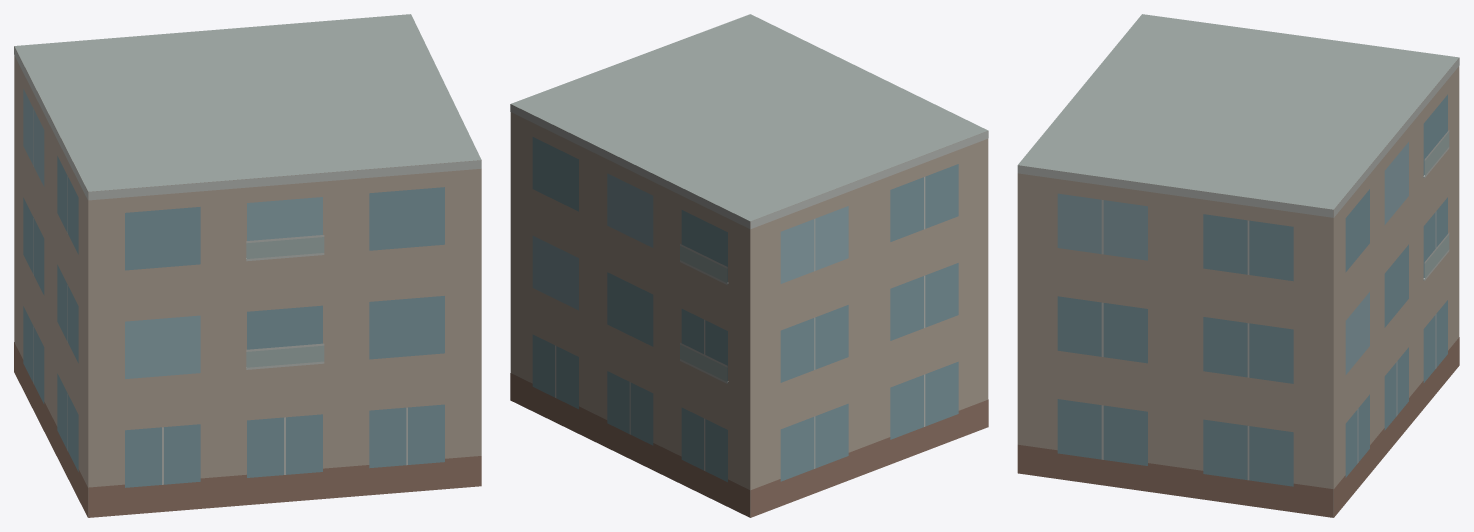
Rendered from survey-upis-33043038.glb.
3 renders of one model, left to right at view 1: azimuth 30°, elevation 25°; view 2: azimuth 150°, elevation 25°; view 3: azimuth 270°, elevation 25°, orthographic. The views are drawn at different scales.
Parts seen in each view (by area): view 1: survey-upis-33043038.tmp; view 2: survey-upis-33043038.tmp; view 3: survey-upis-33043038.tmp.
Boxes of the visible parts, <box> form: survey-upis-33043038.tmp: <box>14,14,481,517</box>; survey-upis-33043038.tmp: <box>510,14,988,517</box>; survey-upis-33043038.tmp: <box>1017,14,1459,517</box>.
Size of the model in its own units: 12.47 by 9.15 by 11.9.
